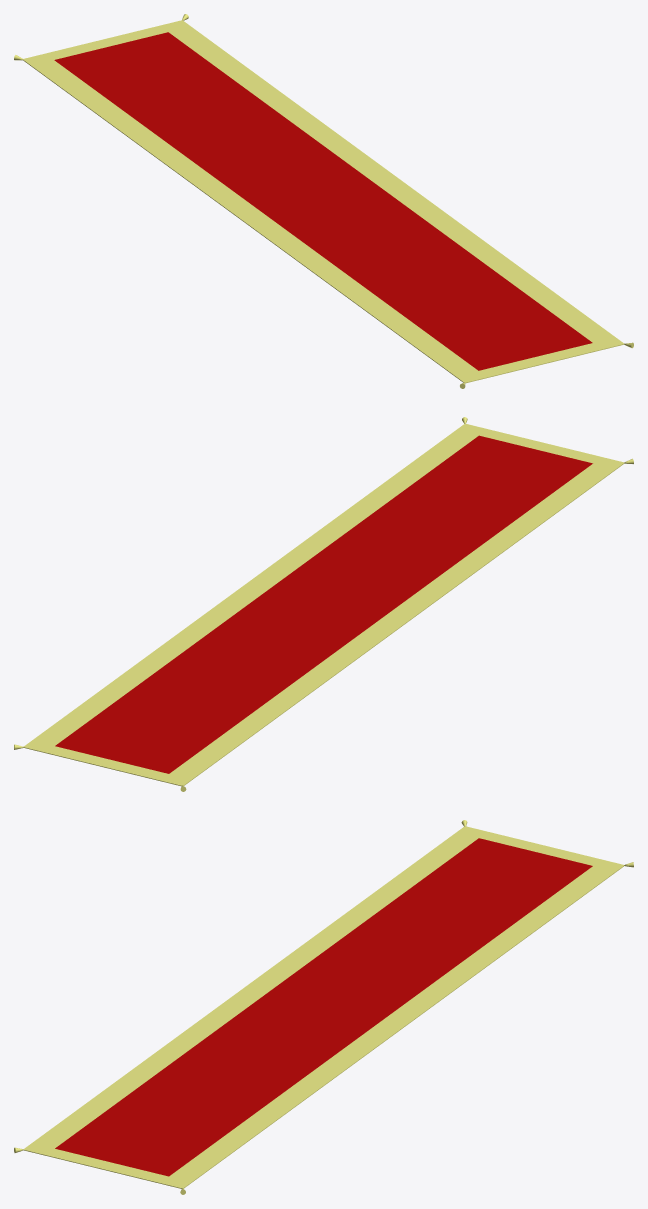
The model's file is RedCarpet.fbx.
3 views of the same model, one above another, from view 1: azimuth 30°, elevation 25°; view 2: azimuth 150°, elevation 25°; view 3: azimuth 330°, elevation 25° (orthographic).
Parts seen in each view (by area): view 1: pCube220; view 2: pCube220; view 3: pCube220.
Part boxes in pixels (x1,y1,x2,y2): pCube220: (14, 14, 633, 388); pCube220: (14, 417, 633, 791); pCube220: (14, 820, 633, 1194).
Bounding box in the file's own units: 10.5 × 0.2954 × 46.94.
